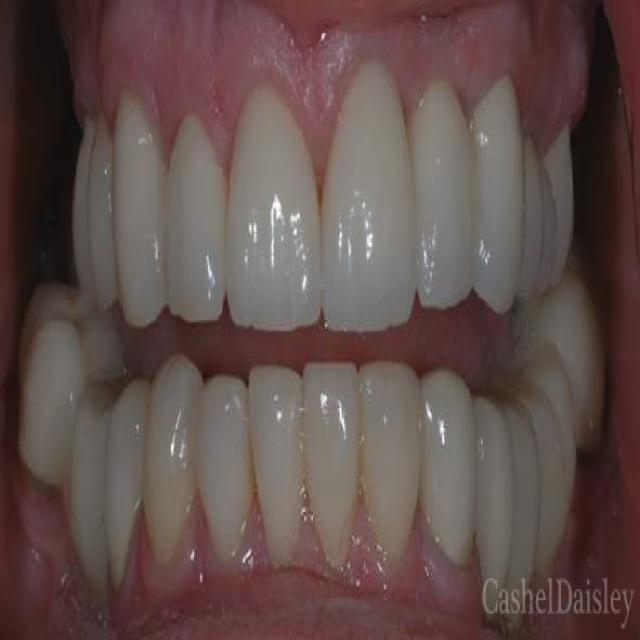tooth: (325, 68, 412, 349), (223, 77, 317, 333), (403, 70, 473, 316), (456, 84, 525, 318), (160, 99, 228, 320), (186, 360, 252, 576), (298, 359, 359, 572), (140, 360, 206, 554), (417, 368, 476, 574), (117, 90, 169, 320), (53, 380, 111, 574), (366, 358, 415, 580), (252, 355, 301, 565), (467, 391, 513, 609), (496, 410, 541, 612), (102, 382, 143, 587), (20, 324, 74, 474), (497, 148, 543, 324), (549, 294, 599, 448), (528, 400, 566, 590), (90, 119, 119, 305), (538, 368, 573, 498), (525, 152, 557, 287), (69, 119, 91, 291), (547, 142, 575, 260)
